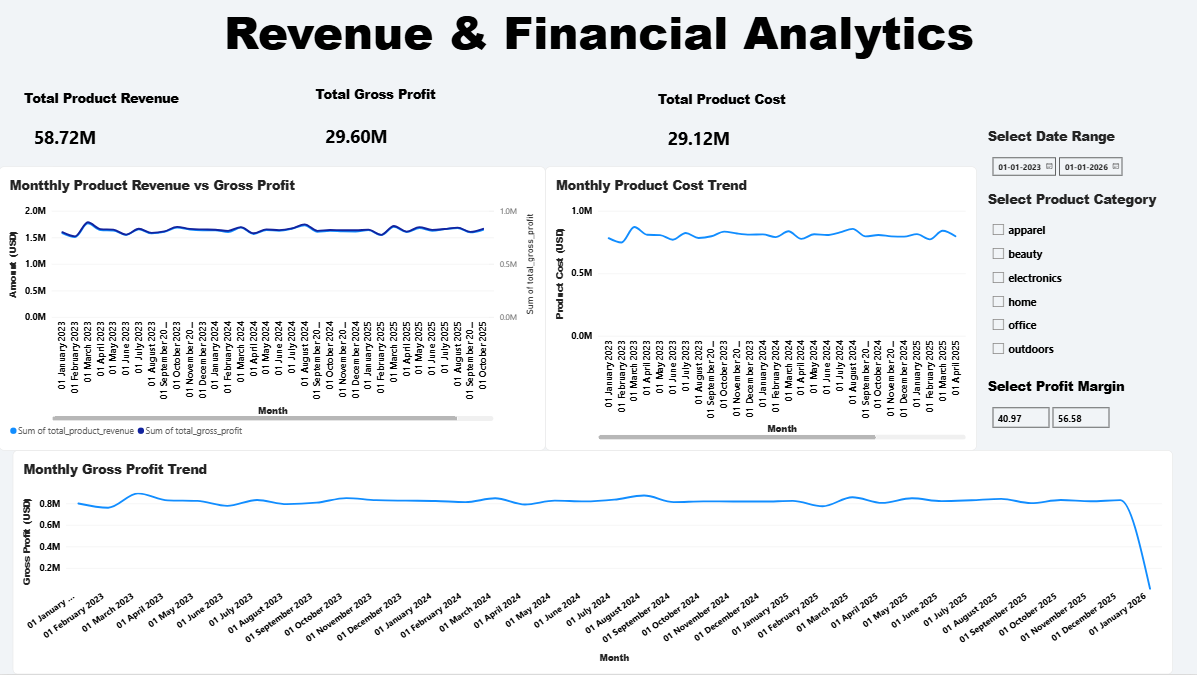

The page's visual inventory and layout, read from the dashboard file:
{"tool":"powerbi","page":{"name":"Revenue & Financial Analytics","canvas":[1920,1080],"ordinal":3},"visuals":[{"type":"lineChart","title":"Monthly Gross Profit Trend","fields":{"Category":["analytics_dbt mart_monthly_category_performance.order_month"],"Y":["Sum(analytics_dbt mart_monthly_category_performance.total_gross_profit)"]},"box":[22,722,1856,358],"z":0},{"type":"lineChart","title":"Montthly Product Revenue vs Gross Profit","fields":{"Category":["analytics_dbt mart_monthly_category_performance.order_month"],"Y":["Sum(analytics_dbt mart_monthly_category_performance.total_product_revenue)"],"Y2":["Sum(analytics_dbt mart_monthly_category_performance.total_gross_profit)"]},"box":[0,268,874,454],"z":1},{"type":"lineChart","title":"Monthly Product Cost Trend","fields":{"Category":["analytics_dbt mart_monthly_category_performance.order_month"],"Y":["Sum(analytics_dbt mart_monthly_category_performance.total_product_cost)"]},"box":[874,268,690,454],"z":2},{"type":"slicer","title":"Select Date Range","fields":{"Values":["analytics_dbt mart_monthly_category_performance.order_month"]},"box":[1582,204,338,90],"z":3},{"type":"slicer","title":"Select Product Category","fields":{"Values":["analytics_dbt mart_monthly_category_performance.category"]},"box":[1582,306,338.3,283.3],"z":4},{"type":"slicer","title":"Select Profit Margin","fields":{"Values":["analytics_dbt mart_monthly_category_performance.profit_margin_percentage"]},"box":[1582,604,338,118],"z":5},{"type":"cardVisual","title":"Total Product Revenue ","fields":{"Data":["Sum(analytics_dbt mart_monthly_category_performance.total_product_revenue)"]},"box":[40,144,446,106],"z":6},{"type":"cardVisual","title":"Total Gross Profit","fields":{"Data":["Sum(analytics_dbt mart_monthly_category_performance.total_gross_profit)"]},"box":[506,138,404,118],"z":7},{"type":"cardVisual","title":"Total Product Cost","fields":{"Data":["Sum(analytics_dbt mart_monthly_category_performance.total_product_cost)"]},"box":[1054,146,392,106],"z":8},{"type":"textbox","box":[0,0,1920,150],"z":9}]}

Visuals, with their boxes in screenshot pixels (x1, y1, x2, y2), scaled from the page's 1920x1080 canvas onto the 1197x675 screenshot:
"Monthly Gross Profit Trend" lineChart: l=14, t=451, r=1171, b=674
"Montthly Product Revenue vs Gross Profit" lineChart: l=0, t=168, r=545, b=451
"Monthly Product Cost Trend" lineChart: l=545, t=168, r=975, b=451
"Select Date Range" slicer: l=986, t=128, r=1196, b=184
"Select Product Category" slicer: l=986, t=191, r=1196, b=368
"Select Profit Margin" slicer: l=986, t=378, r=1196, b=451
"Total Product Revenue " cardVisual: l=25, t=90, r=303, b=156
"Total Gross Profit" cardVisual: l=315, t=86, r=567, b=160
"Total Product Cost" cardVisual: l=657, t=91, r=901, b=158
textbox: l=0, t=0, r=1196, b=94
